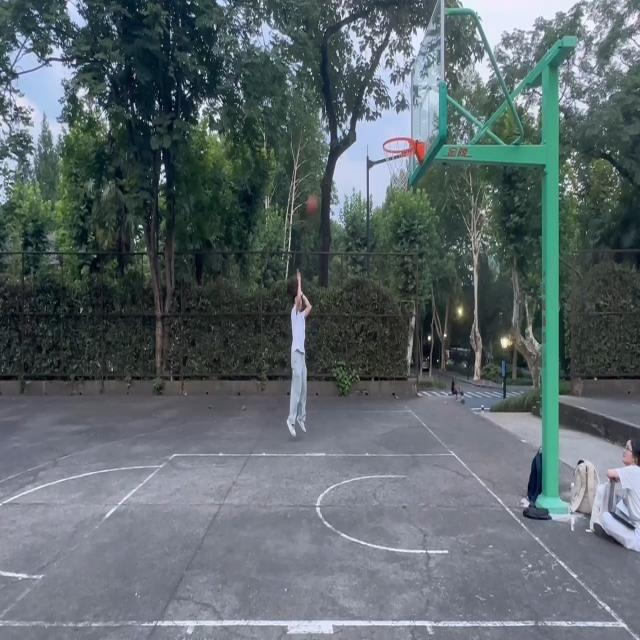basketball: (383, 138, 424, 192)
rim: (306, 194, 320, 214)
